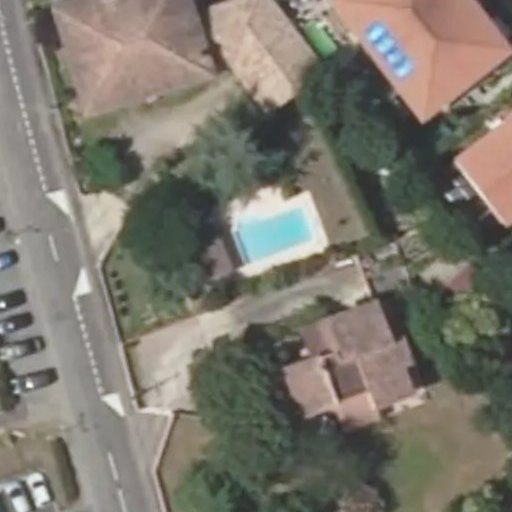pool: (209, 227, 297, 246)
